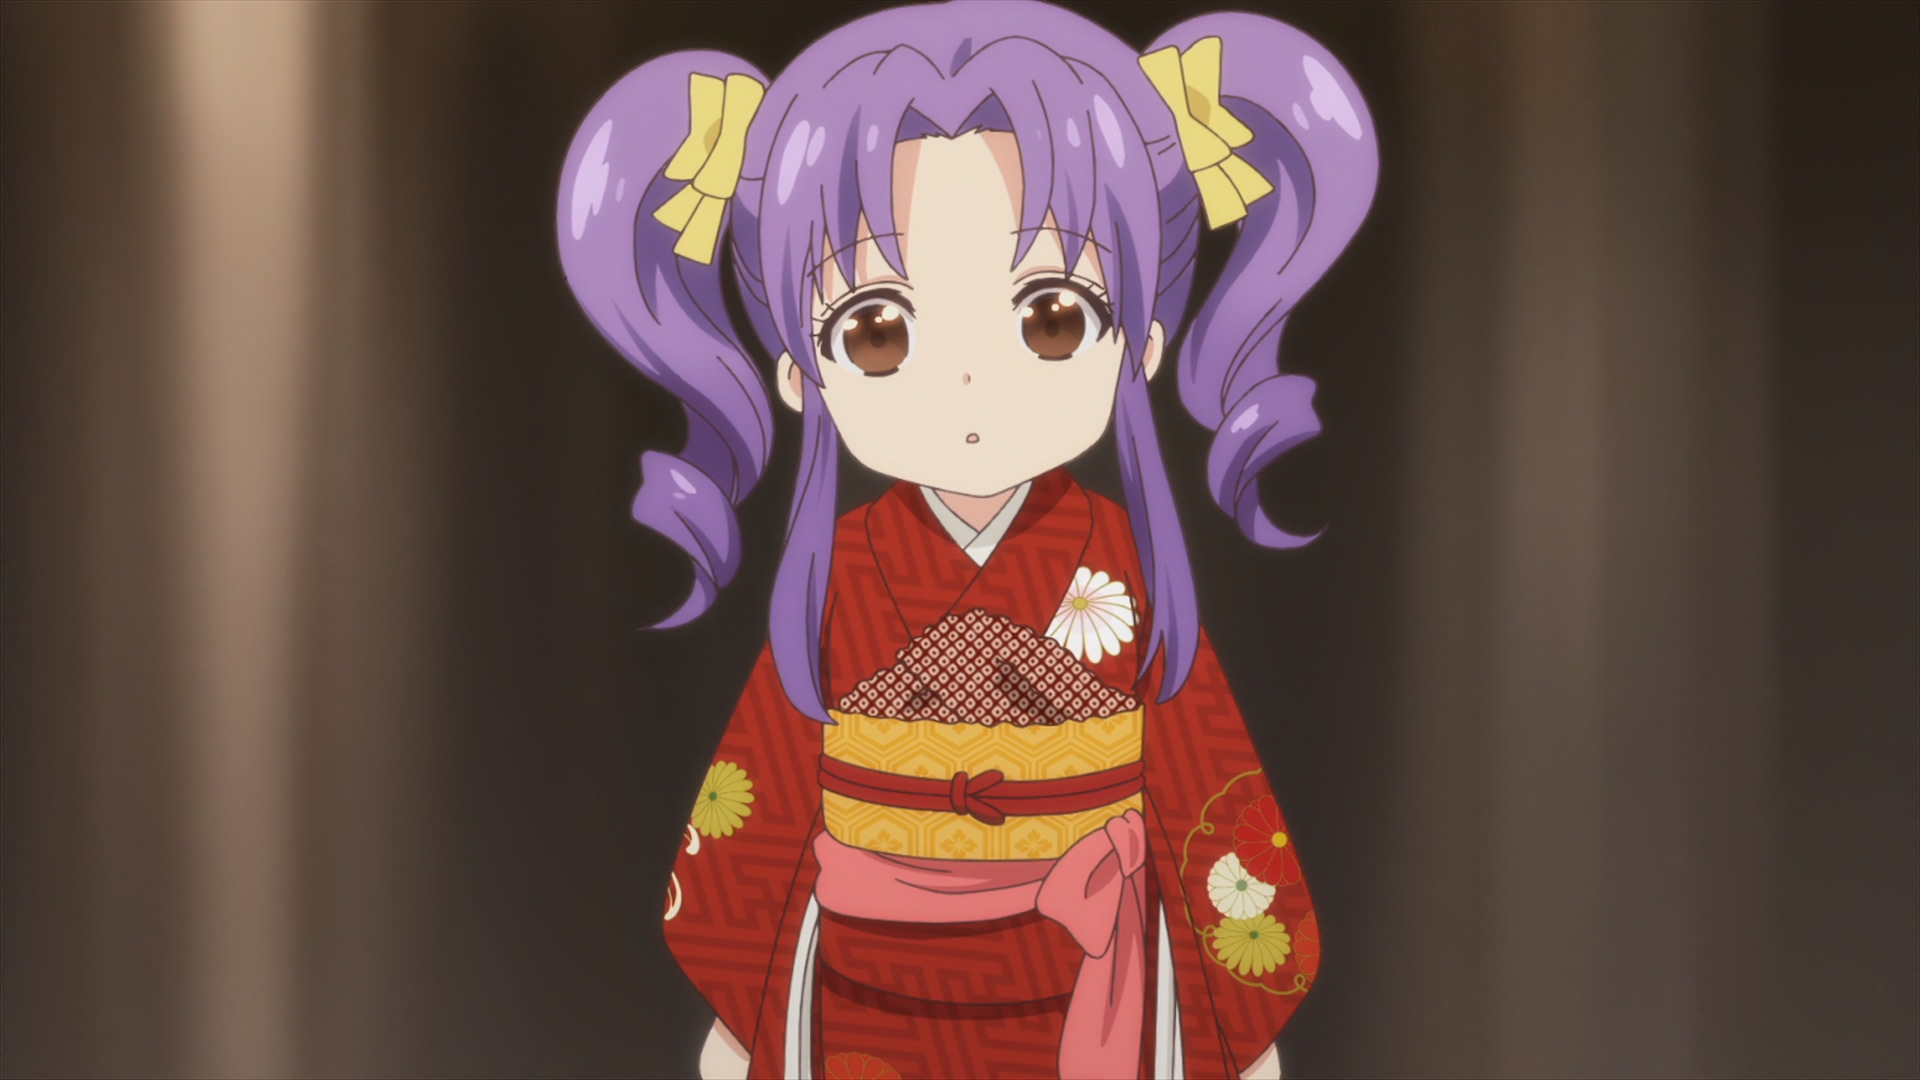阿菊: (556, 1, 1379, 1080)
